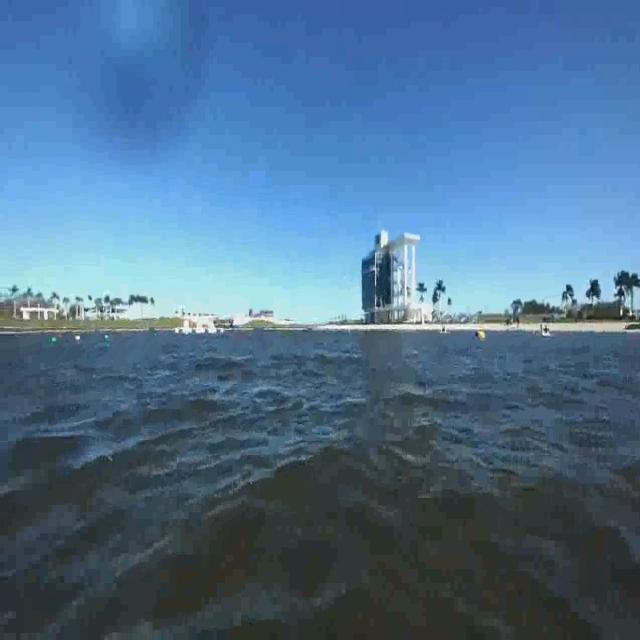yellow-buoy: (479, 330, 487, 343)
